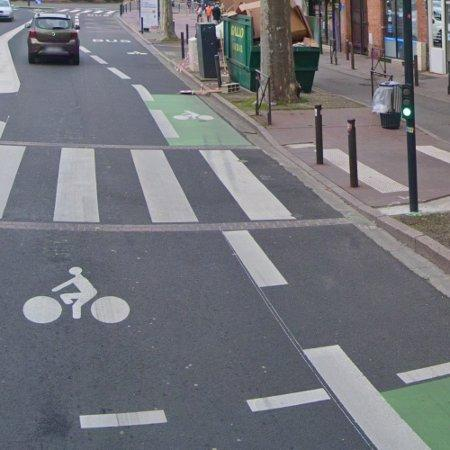crosswalks: (0, 146, 342, 223)
